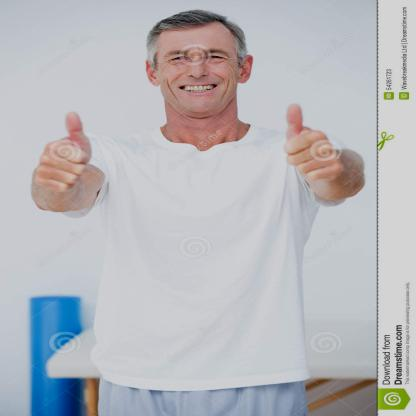Thumbs up: (9, 100, 103, 206), (254, 101, 354, 191)
